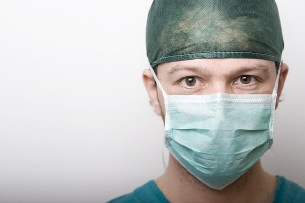Mask: (151, 53, 279, 181)
